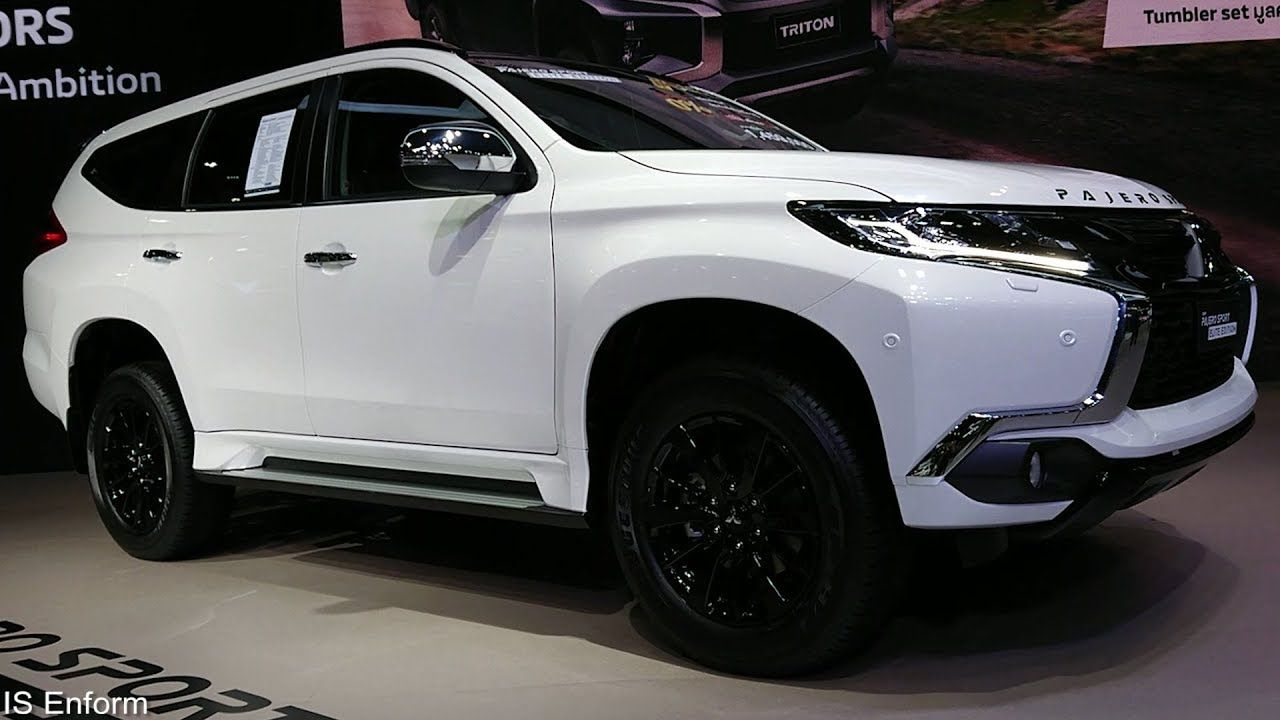pickup: (20, 35, 1262, 680)
